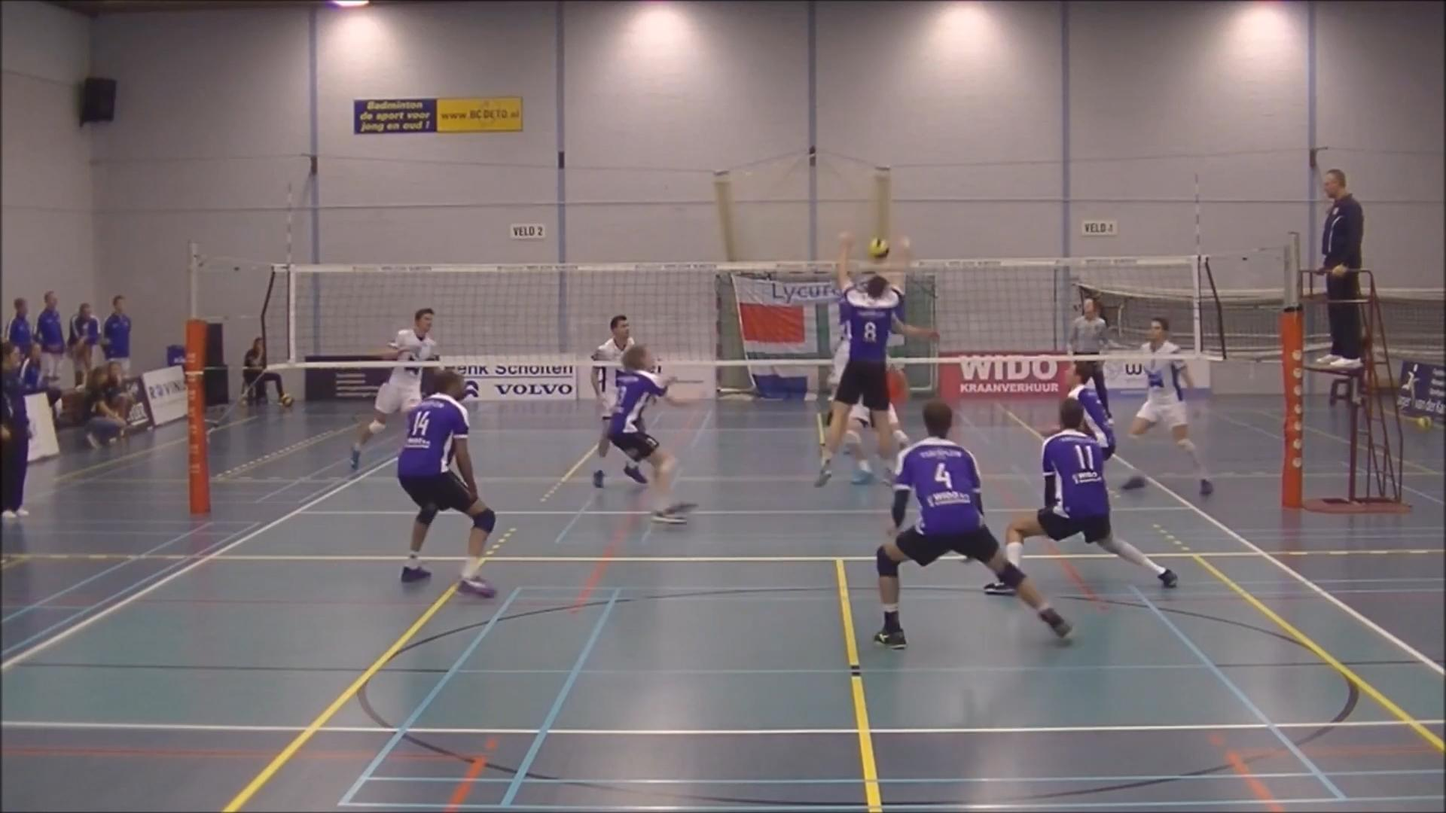muro: (811, 229, 916, 492)
